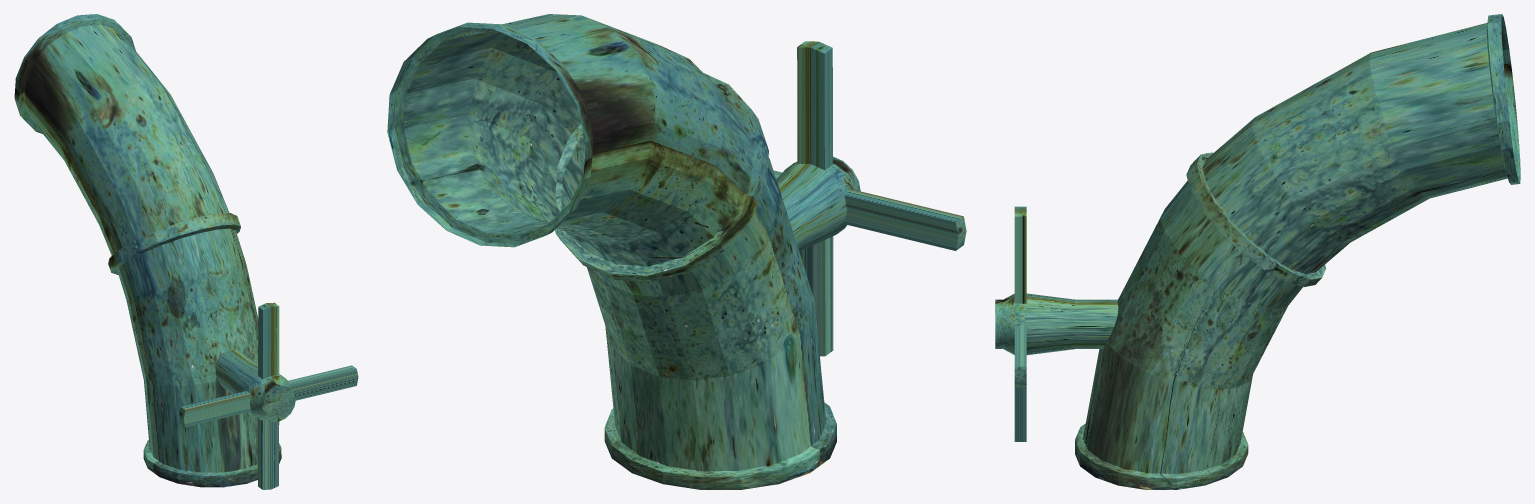
The model's file is Valve.FBX.
3 views of the same model, side by side, from view 1: azimuth 30°, elevation 25°; view 2: azimuth 150°, elevation 25°; view 3: azimuth 270°, elevation 25° (orthographic). The views are drawn at different scales.
Visible parts, largest first — view 1: Cylinder002; view 2: Cylinder002; view 3: Cylinder002.
Part boxes in pixels (x1,y1,x2,y2): Cylinder002: (14,14,358,489); Cylinder002: (387,14,966,489); Cylinder002: (995,14,1520,489).
Size of the model in its own units: 370 by 696 by 767.
